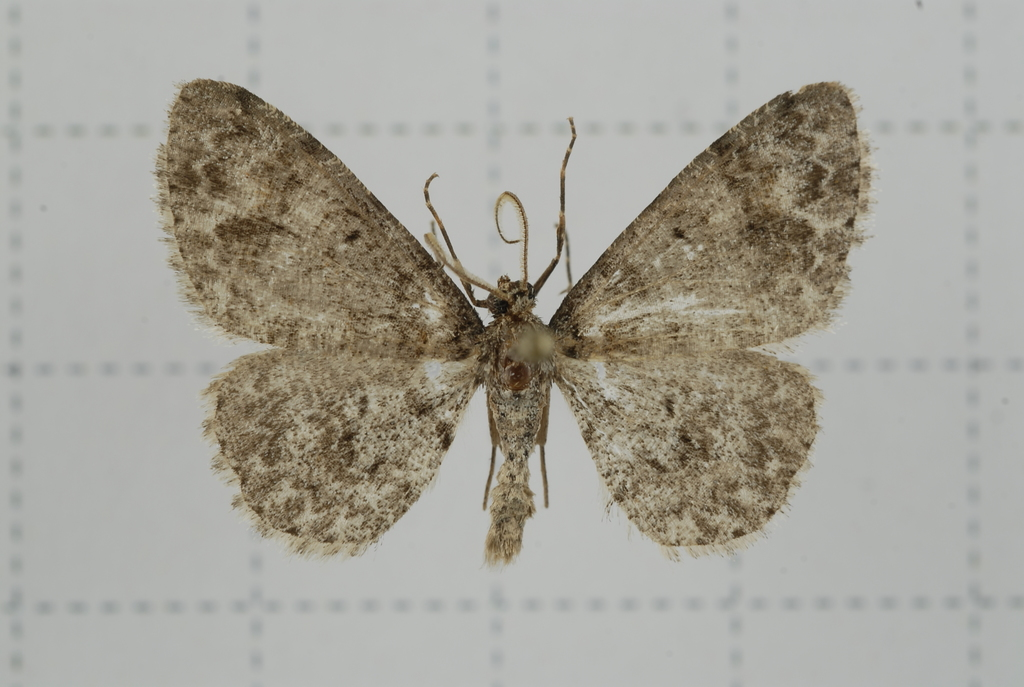Butterfly: (152, 71, 872, 573)
